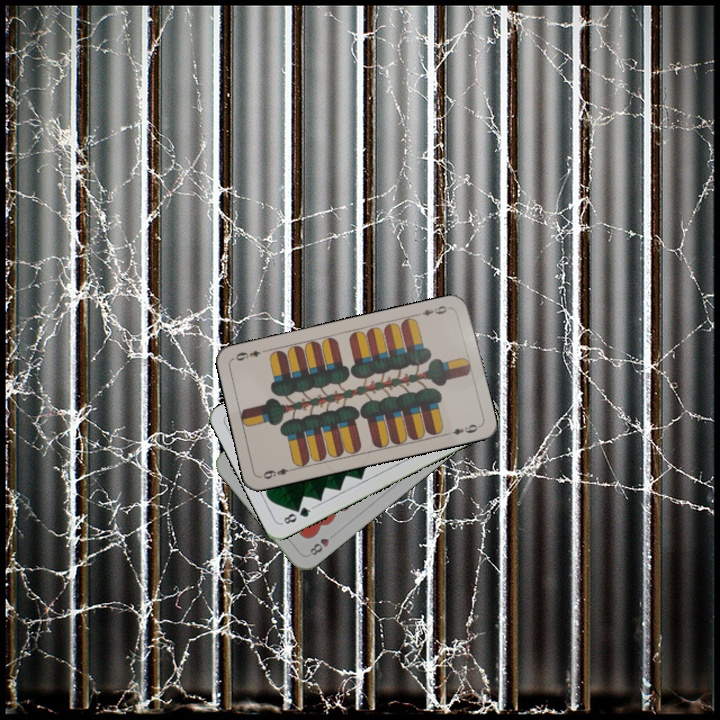E9: (259, 464, 297, 482), (414, 302, 454, 318)
G8: (278, 503, 316, 527)
H8: (306, 530, 338, 558)
